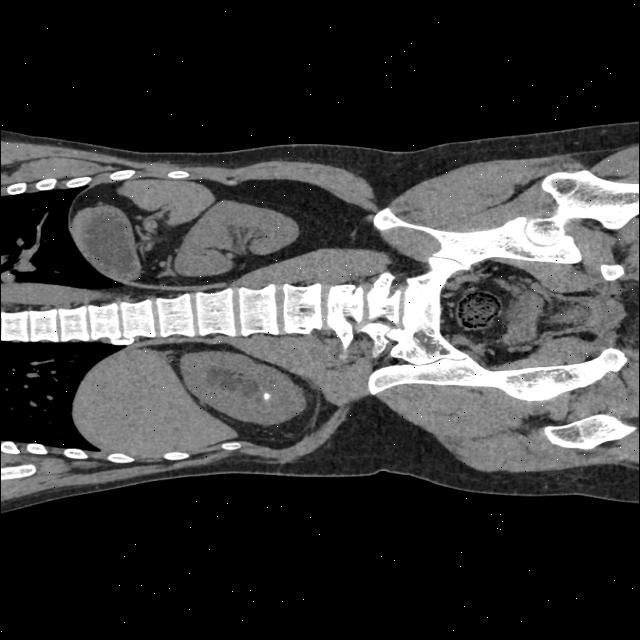kidneystone: (262, 391, 270, 399)
